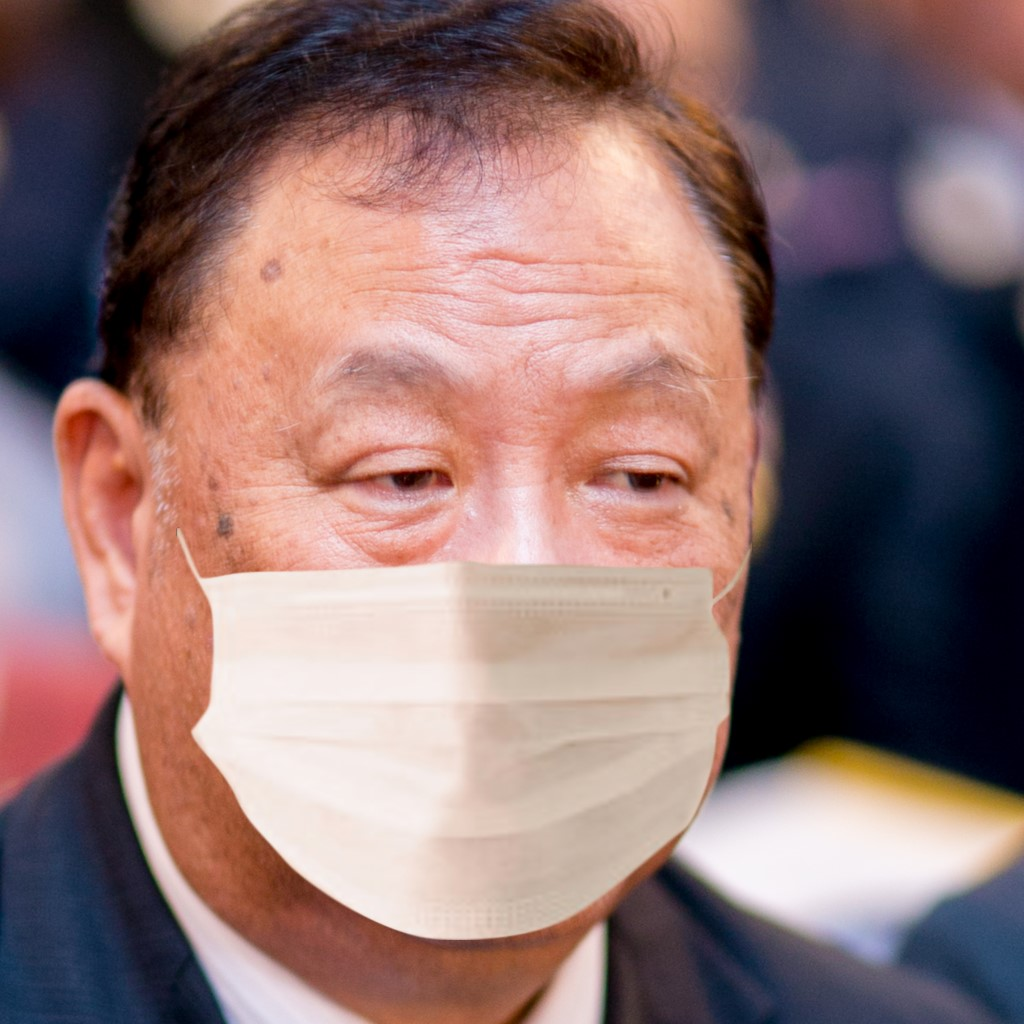con_mascara: (149, 87, 748, 931)
